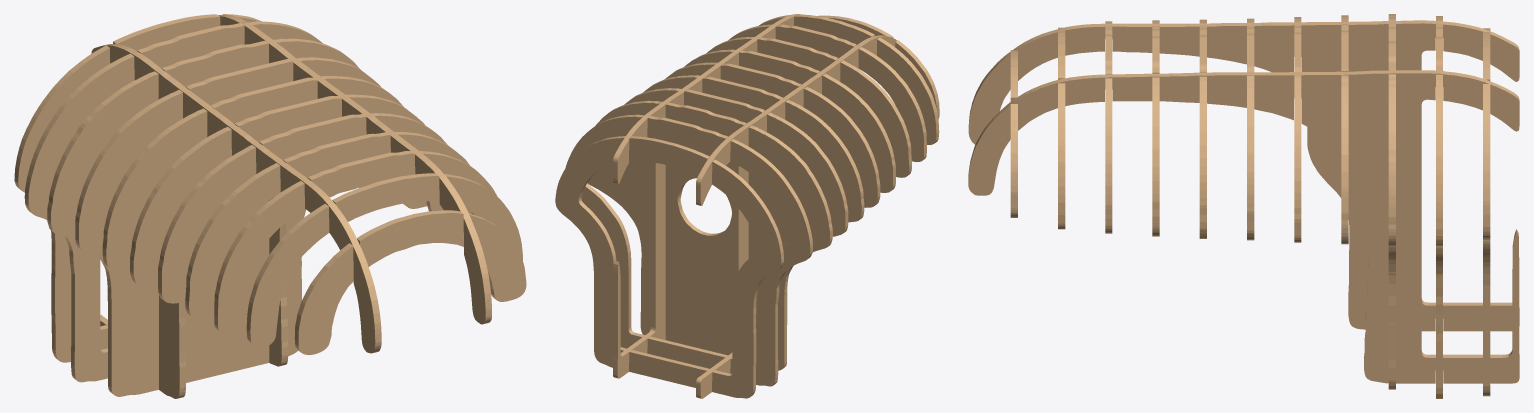
The model's file is samla.glb.
The picture shows the model from 3 angles, left to right: view 1: azimuth 30°, elevation 25°; view 2: azimuth 150°, elevation 25°; view 3: azimuth 270°, elevation 25°; orthographic projection. The views are drawn at different scales.
Visible parts, largest first — view 1: slicer-hettestemning; view 2: slicer-hettestemning; view 3: slicer-hettestemning.
Boxes of the visible parts, left/top/right/bottom form: slicer-hettestemning: left=14, top=14, right=526, bottom=398; slicer-hettestemning: left=555, top=14, right=939, bottom=398; slicer-hettestemning: left=968, top=14, right=1519, bottom=398.
Size of the model in its own units: 0.2051 by 0.1896 by 0.3034.
